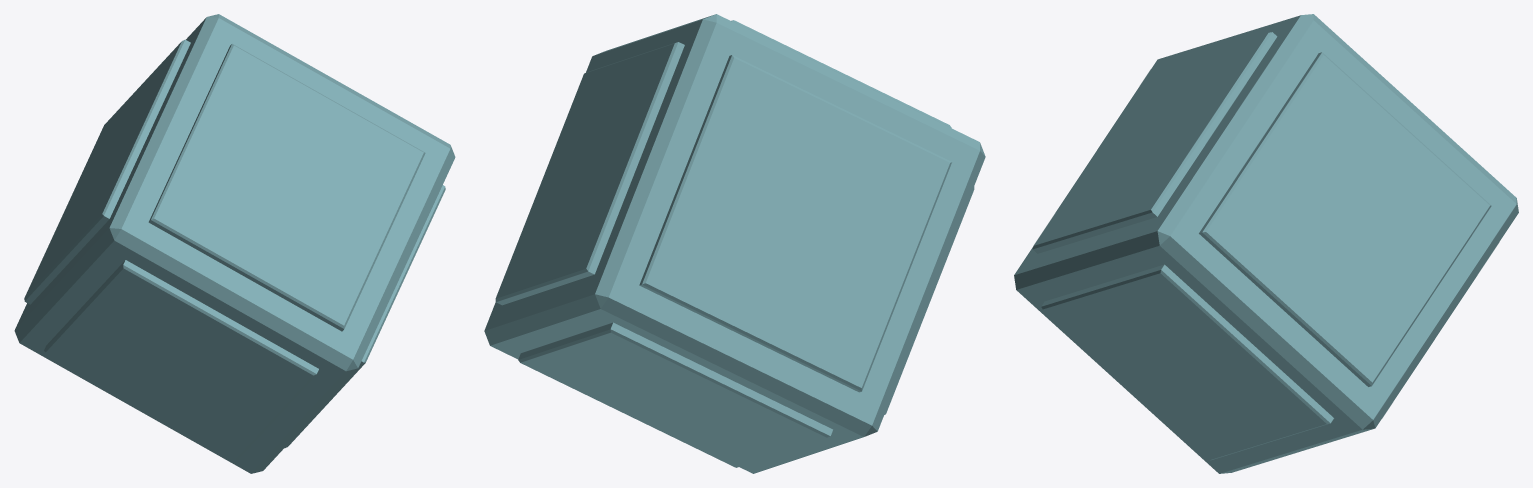
The model's file is table_teleport_oblect_1.fbx.
3 views of the same model, side by side, from view 1: azimuth 30°, elevation 25°; view 2: azimuth 150°, elevation 25°; view 3: azimuth 270°, elevation 25° (orthographic). The views are drawn at different scales.
Parts seen in each view (by area): view 1: table_teleport_oblect_1; view 2: table_teleport_oblect_1; view 3: table_teleport_oblect_1.
Boxes of the visible parts, x1,y1,x2,y2 form: table_teleport_oblect_1: (14, 14, 455, 473); table_teleport_oblect_1: (484, 14, 985, 473); table_teleport_oblect_1: (1014, 14, 1518, 473).
Bounding box in the file's own units: 21 × 25.19 × 25.19.
